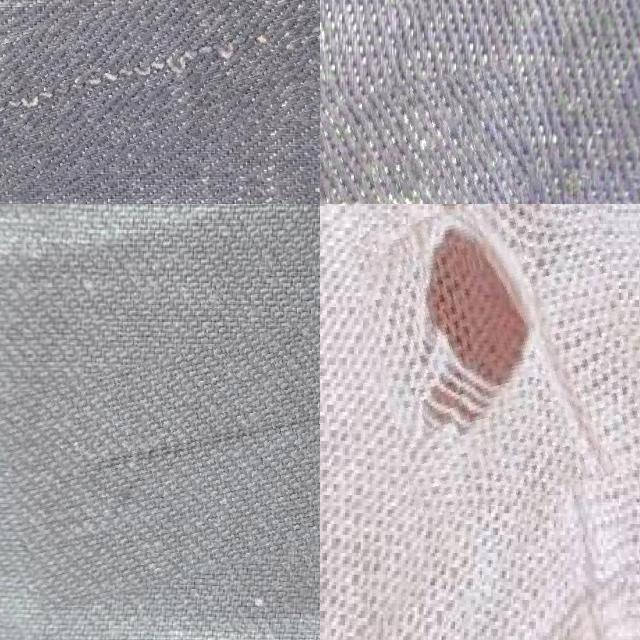Thread_other: (0, 295, 320, 581), (320, 78, 559, 204)
seam: (365, 204, 640, 511)
